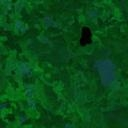alloviz: (77, 25, 93, 47)
